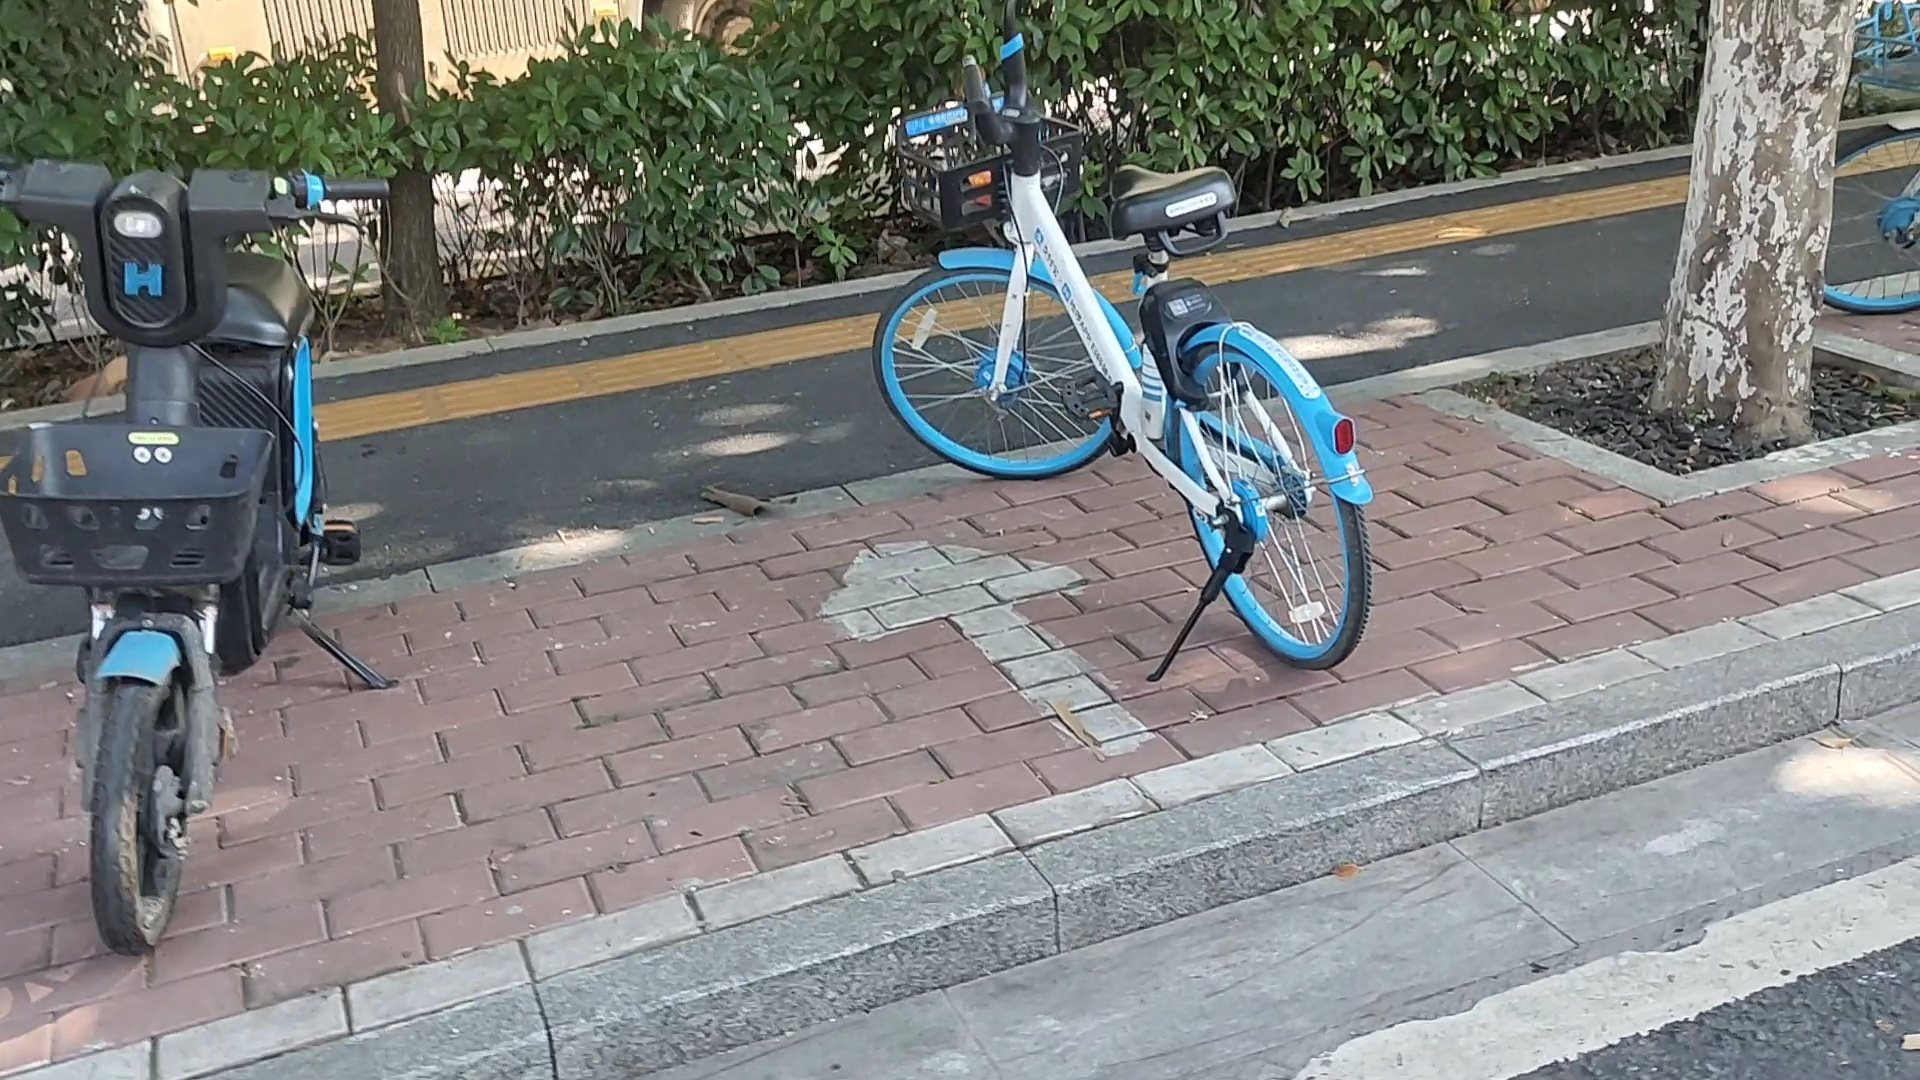non-vehicle: (7, 105, 415, 982), (872, 22, 1373, 690)
